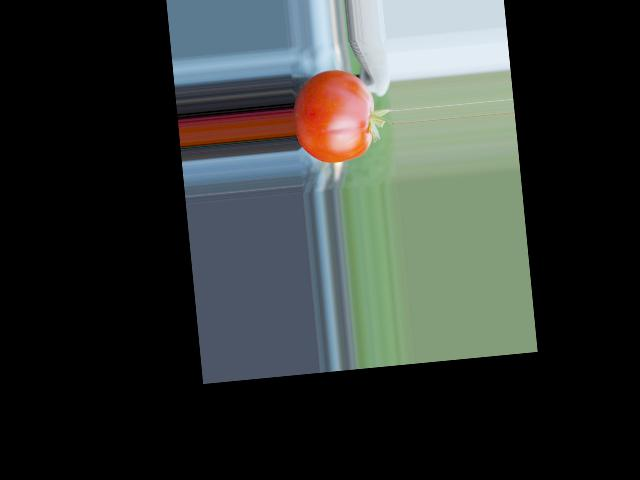tomato: (289, 66, 379, 166)
